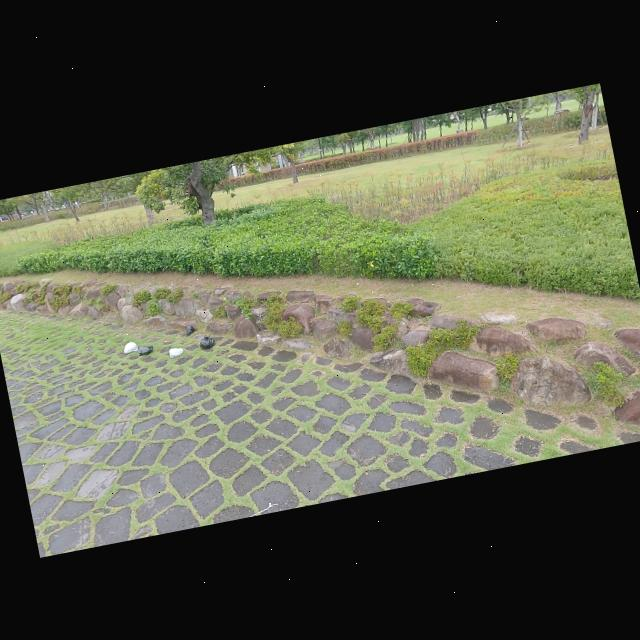trash: (196, 332, 218, 352), (120, 338, 142, 356), (134, 342, 155, 358), (167, 344, 186, 358), (184, 321, 197, 337)
